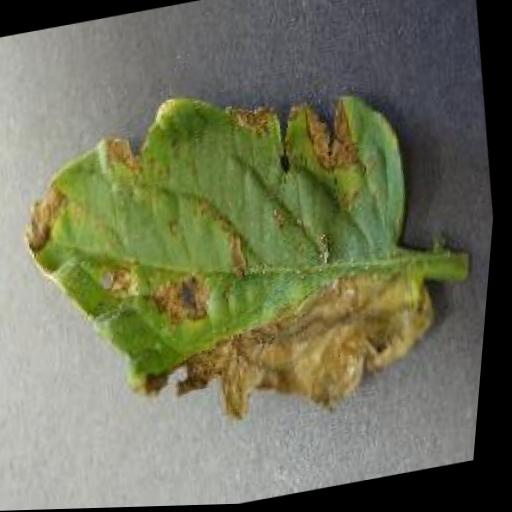Bacterial Spot: (0, 49, 473, 470)
